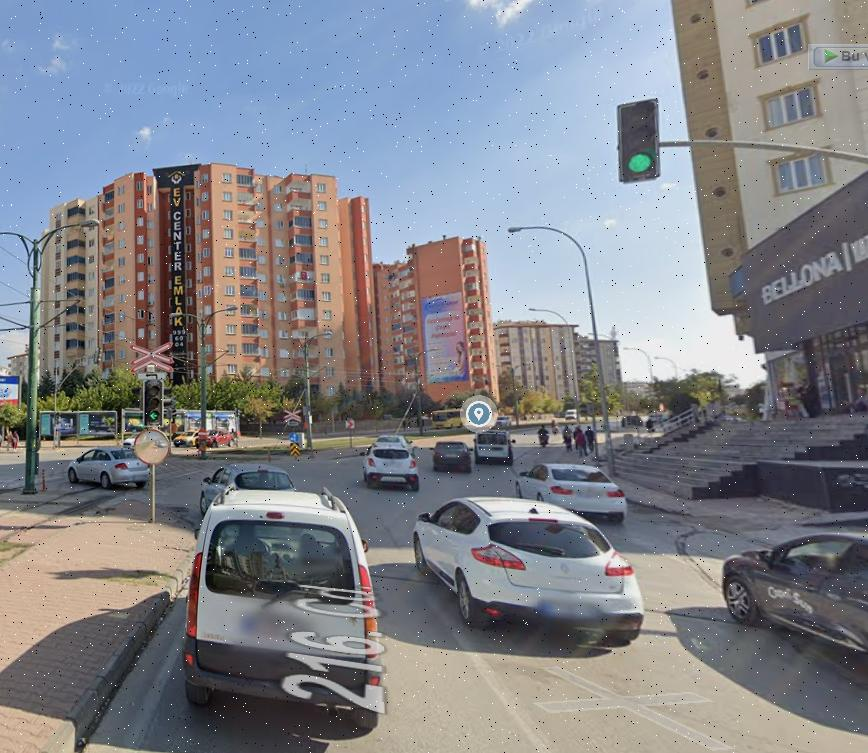greenlight: (619, 102, 658, 181), (145, 379, 161, 424)
